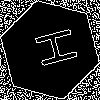H: (25, 25, 79, 72)
